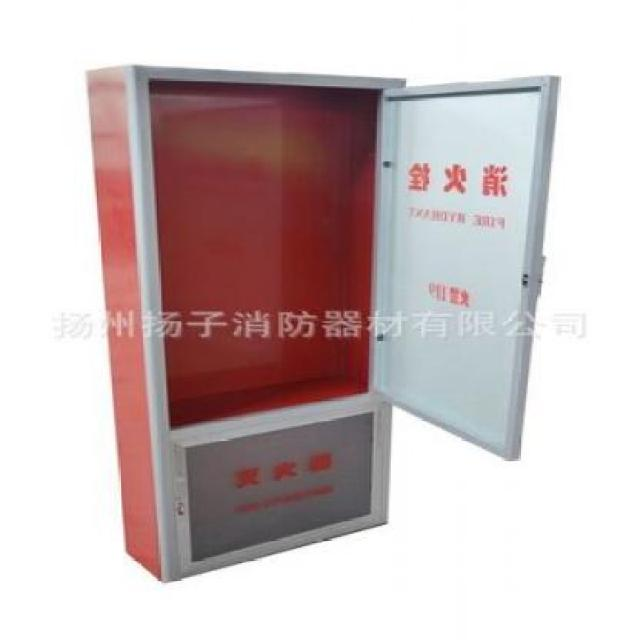firehydrant: (82, 60, 569, 590)
